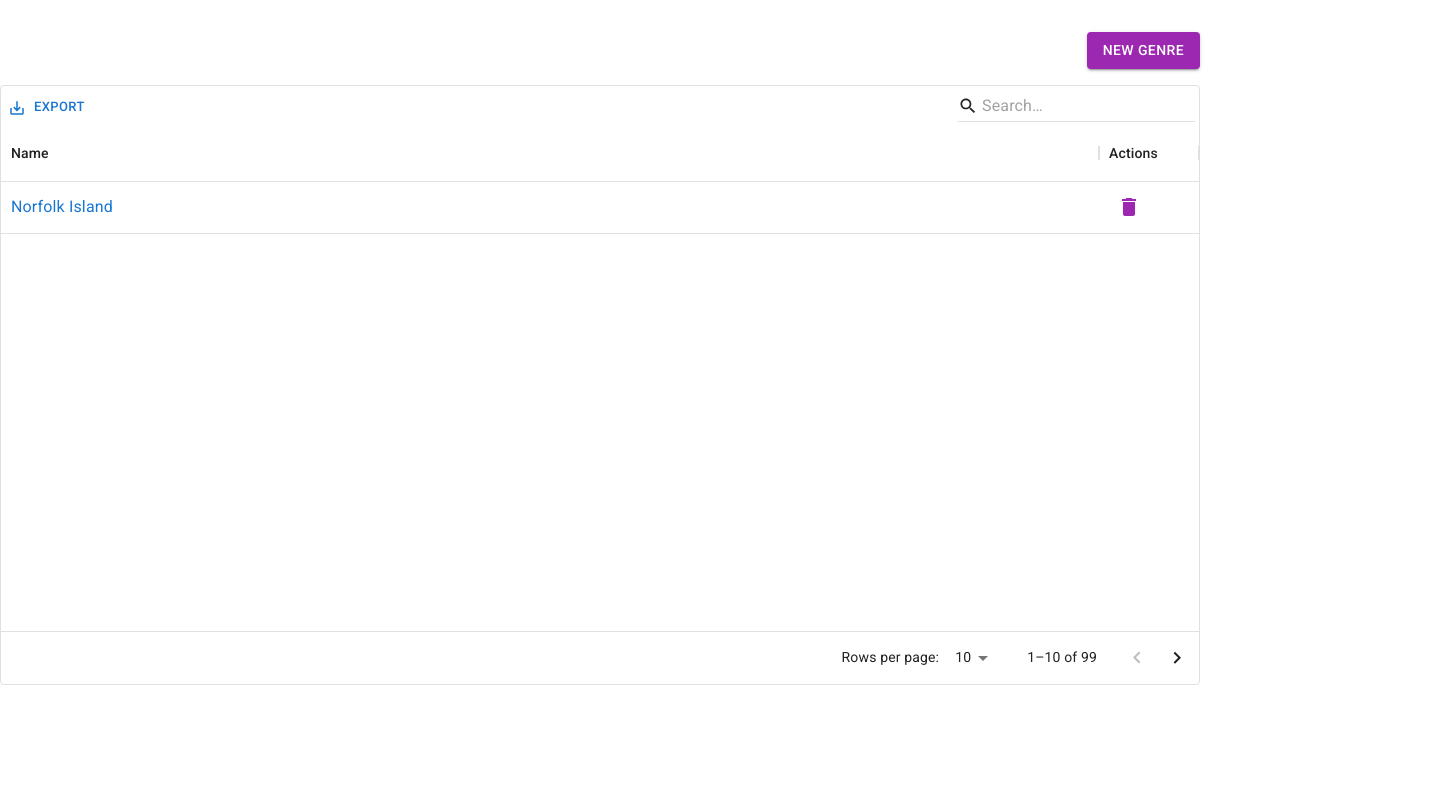
it: GenreList › should be error when delete
The width and height of the screenshot is (1440, 810).
Expected: the text "Norfolk Island" is shown, [11, 195, 113, 219]
Click the button with test id "delete-button" at [1129, 207], box [1109, 187, 1149, 227]
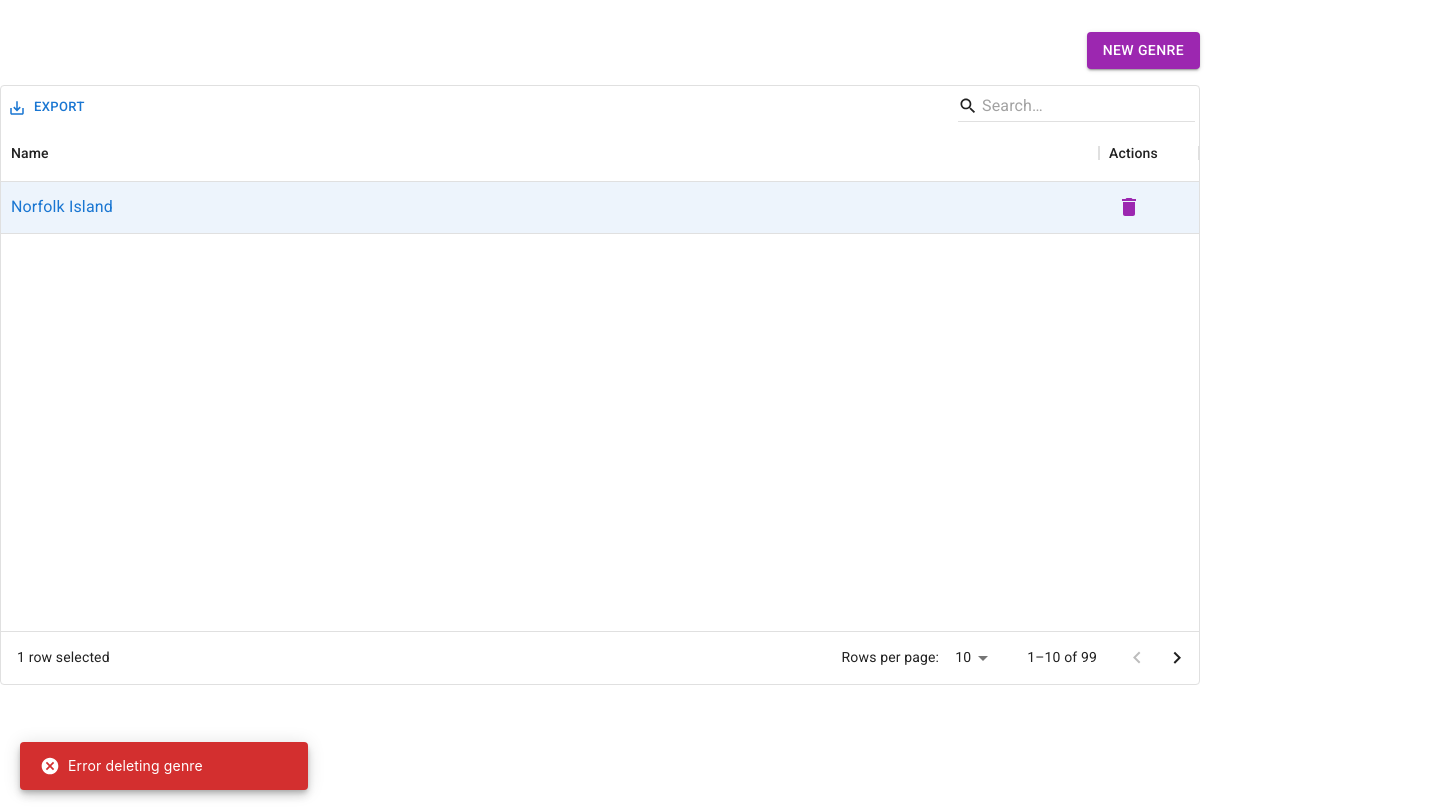
Expected: the text "Error deleting genre" is shown, [40, 756, 203, 776]
